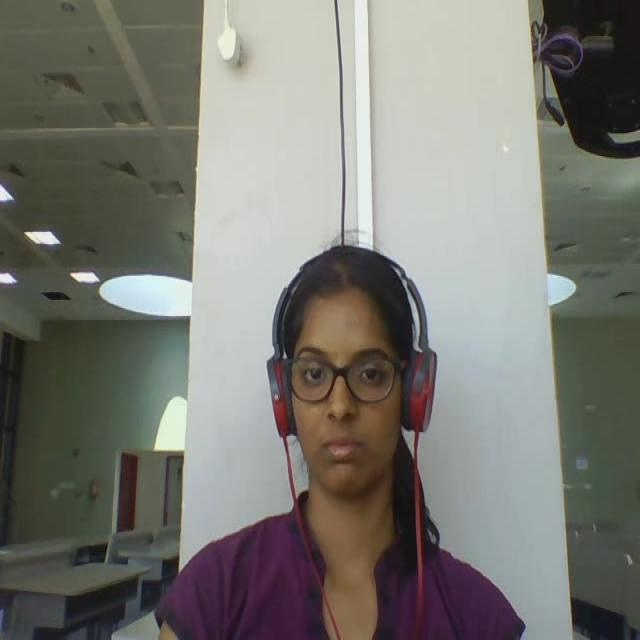Engaged: (255, 252, 492, 519)
